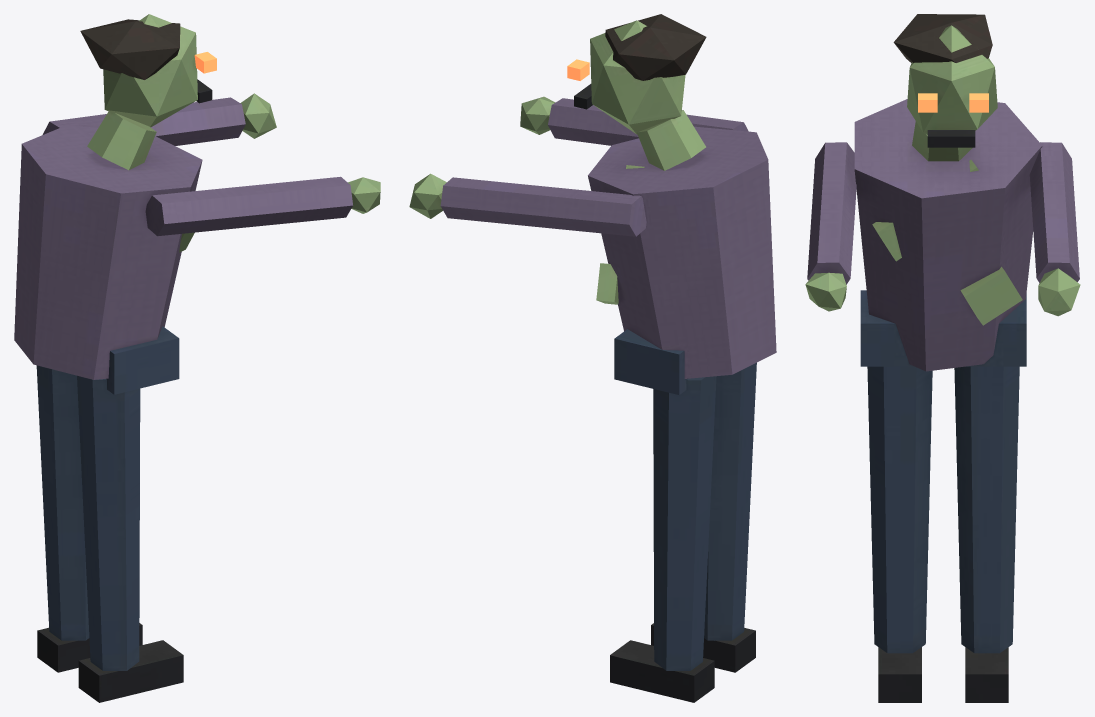
File: zombie_tex.glb
3 views of the same model, side by side, from view 1: azimuth 30°, elevation 25°; view 2: azimuth 150°, elevation 25°; view 3: azimuth 270°, elevation 25° (orthographic). The views are drawn at different scales.
Visible parts, largest first — view 1: Kropp, BenH, BenV, ArmH, ArmV; view 2: Kropp, BenV, BenH, ArmV, ArmH; view 3: Kropp, BenV, BenH, ArmV, ArmH.
Part boxes in pixels (x1=…): Kropp: x1=14, y1=14, x2=216, y2=394; BenH: x1=77, y1=375, x2=183, y2=702; BenV: x1=36, y1=365, x2=142, y2=672; ArmH: x1=145, y1=176, x2=380, y2=236; ArmV: x1=42, y1=93, x2=276, y2=145; Kropp: x1=567, y1=14, x2=776, y2=394; BenV: x1=610, y1=376, x2=716, y2=702; BenH: x1=651, y1=362, x2=756, y2=672; ArmV: x1=409, y1=173, x2=646, y2=236; ArmH: x1=520, y1=96, x2=748, y2=145; Kropp: x1=854, y1=14, x2=1042, y2=371; BenV: x1=954, y1=366, x2=1019, y2=702; BenH: x1=867, y1=366, x2=932, y2=702; ArmV: x1=1029, y1=142, x2=1080, y2=316; ArmH: x1=805, y1=142, x2=856, y2=311.
Bounding box in the file's own units: 0.9274 × 1.89 × 0.6961.
6 materials, 5 textured.
